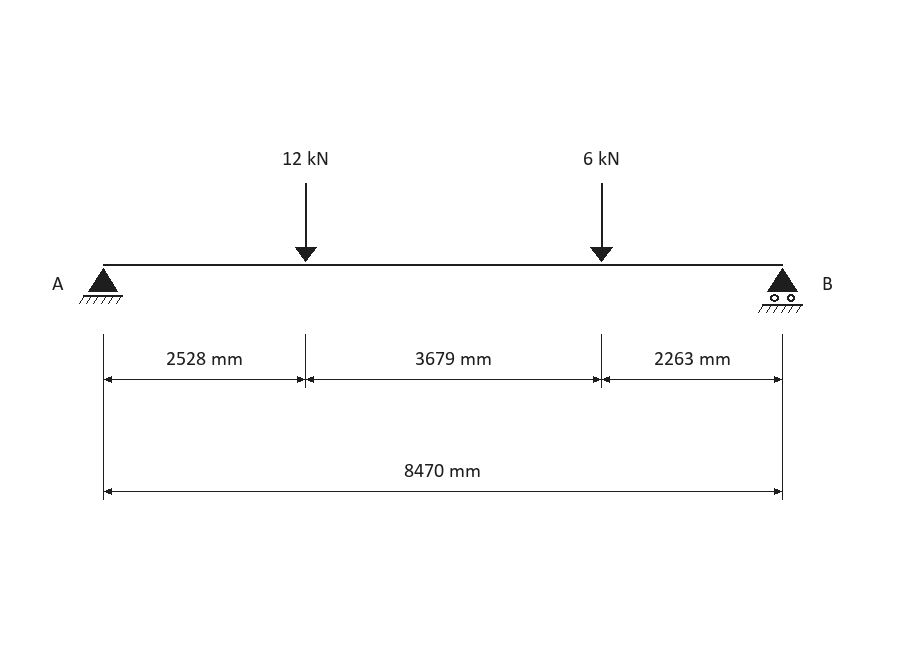pin_support: (79, 268, 123, 304)
point_load: (590, 183, 613, 262), (295, 183, 317, 262)
roller_support: (758, 268, 803, 313)
